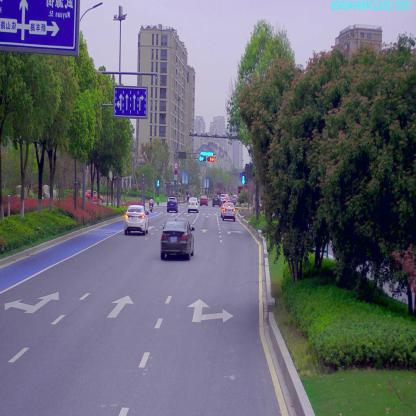traffic-light: (200, 149, 214, 158), (200, 156, 206, 164), (210, 156, 214, 161)
